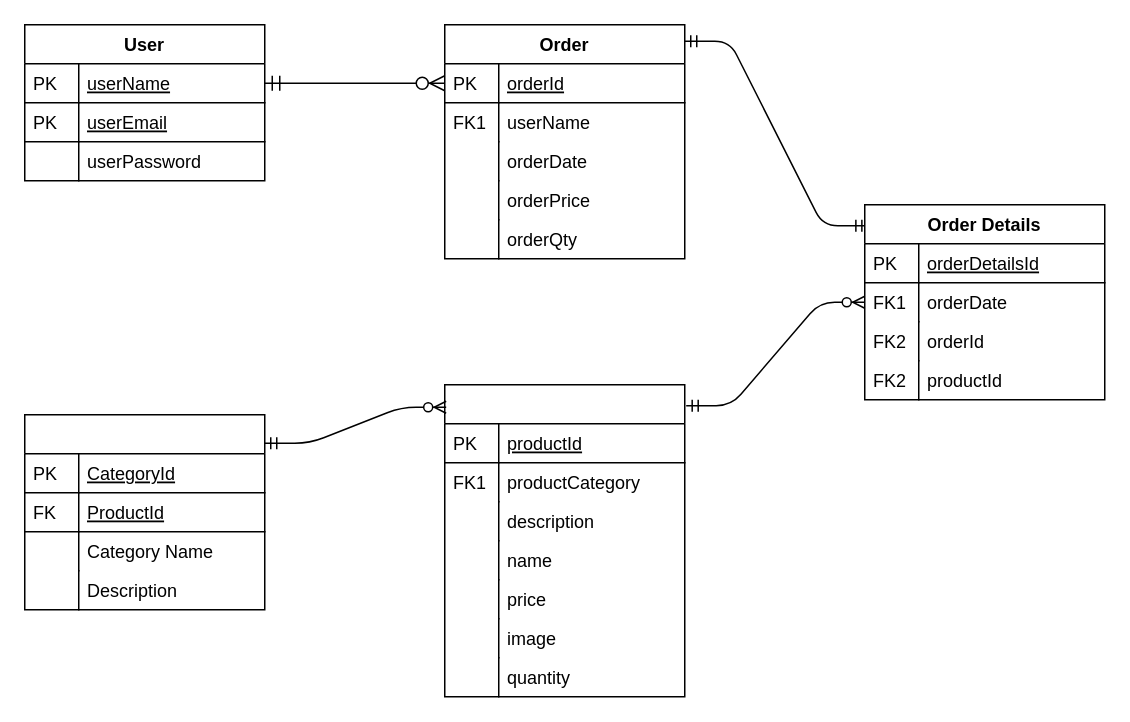
Some shapes in this 1130 by 722 pixel diagram are drawn without their labels. Here are the shapes that lost their labels. From the top down, the box of each, then its label:
(23, 413, 265, 610): Product Category
(443, 383, 685, 697): Products
